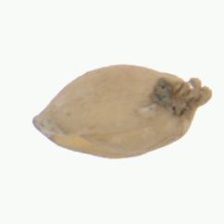L1: (165, 72, 208, 129), (32, 104, 60, 140)
L2: (33, 64, 212, 159)
